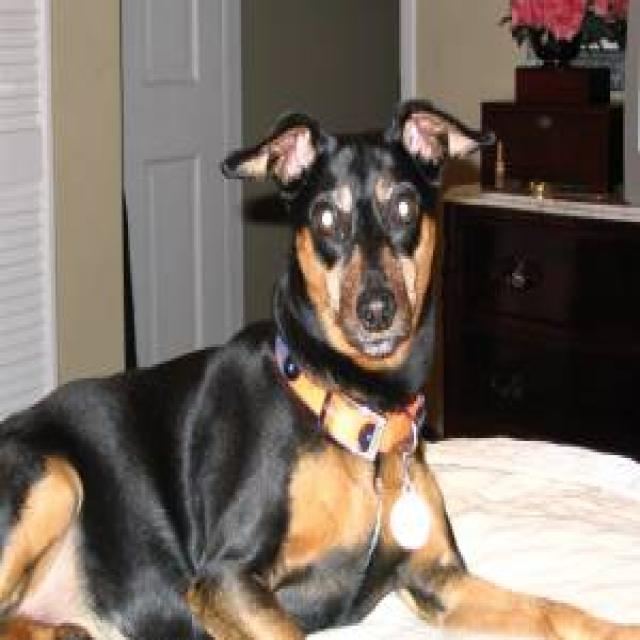dog-miniature_pinscher: (2, 88, 636, 634)
